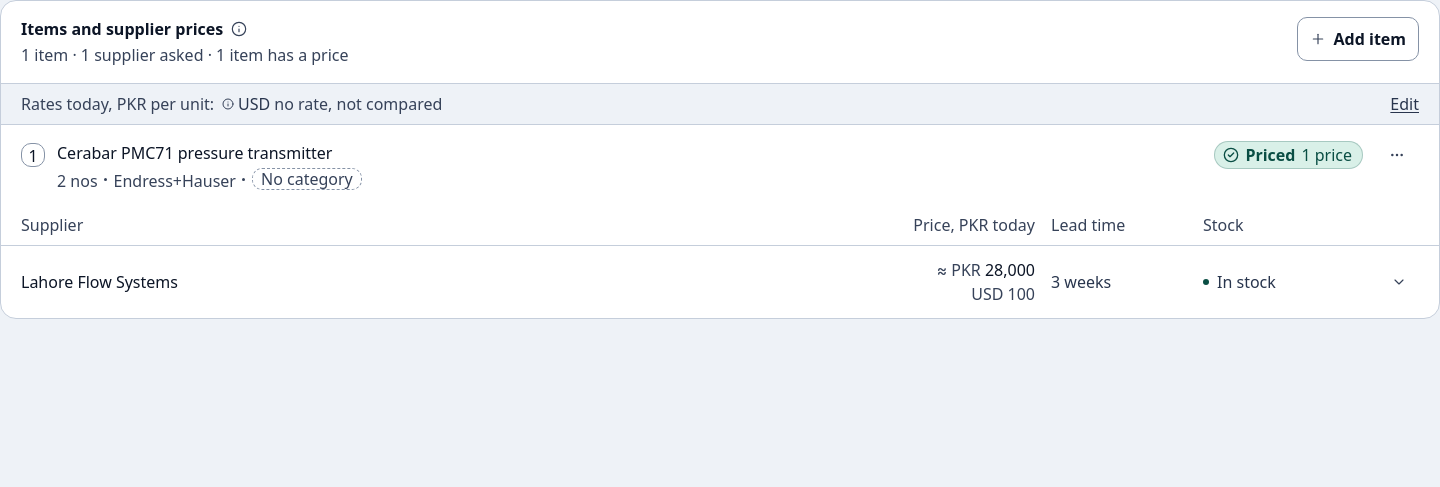
Test: the supplier comparison › a price line shows one control, its chevron; the "..." menu waits until the line is open (grade-A 9)
Click the button named "Show details for Lahore Flow Systems" at (1399, 282), box [1379, 262, 1419, 302]
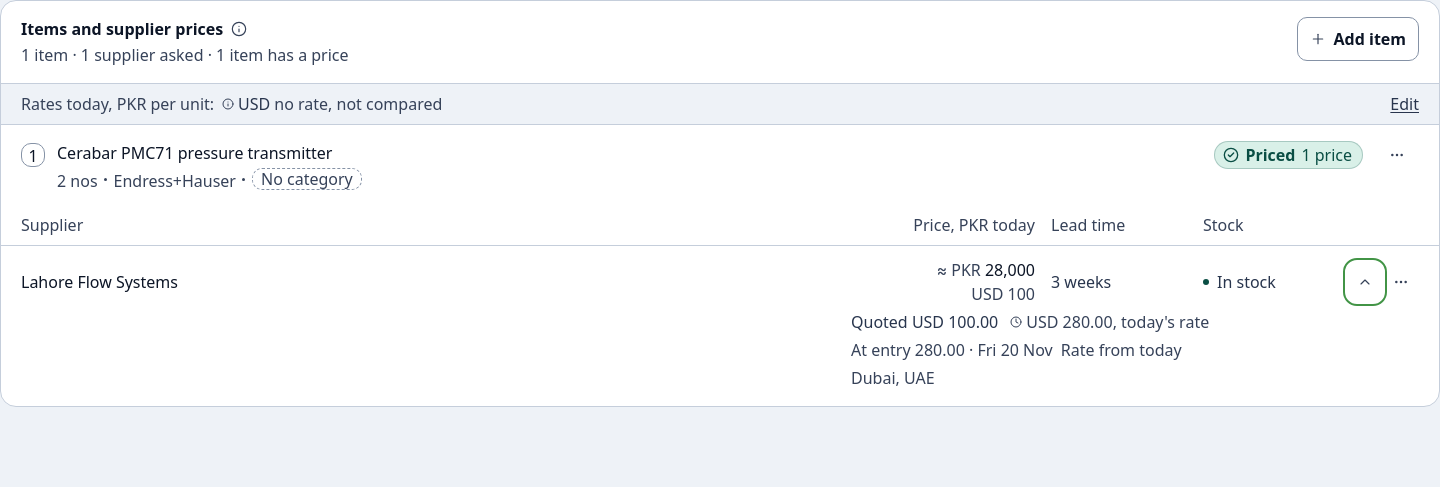
Click the button named "More for Lahore Flow Systems" at (1401, 282), box [1383, 262, 1419, 302]
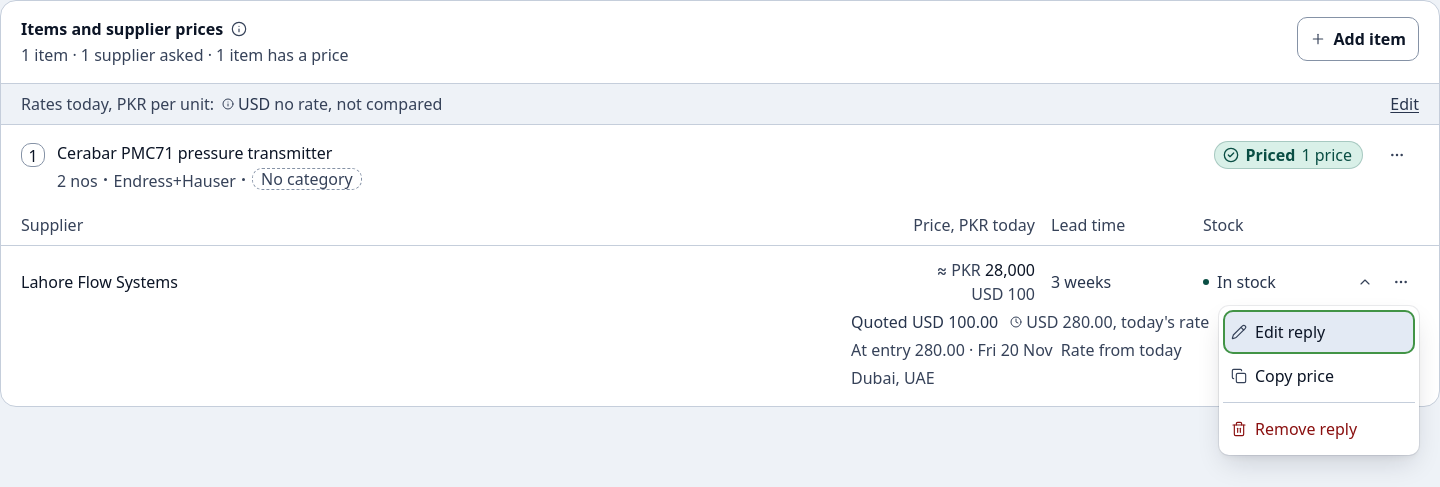
Check: the menu item "Edit reply" is shown, box [1223, 310, 1415, 354]
